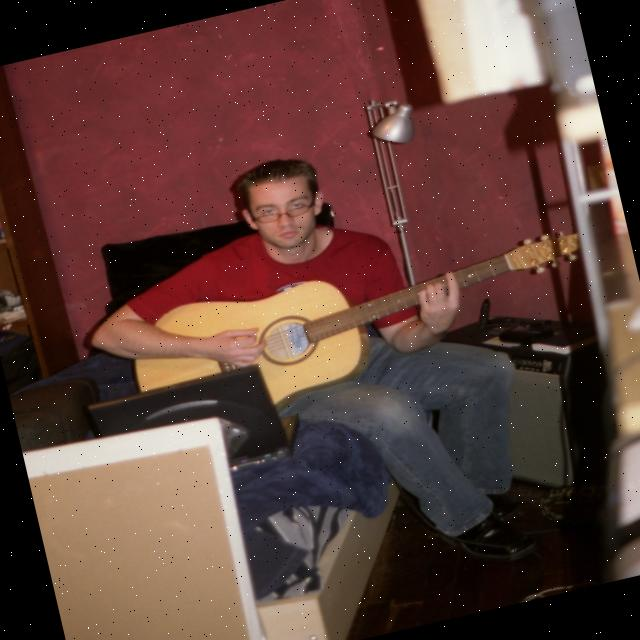guitar: (122, 215, 600, 440)
